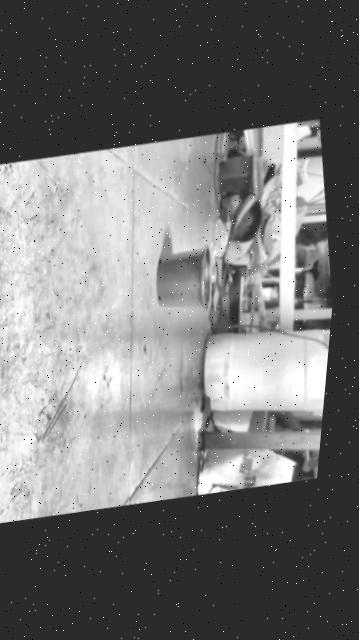pot: (148, 244, 219, 318)
